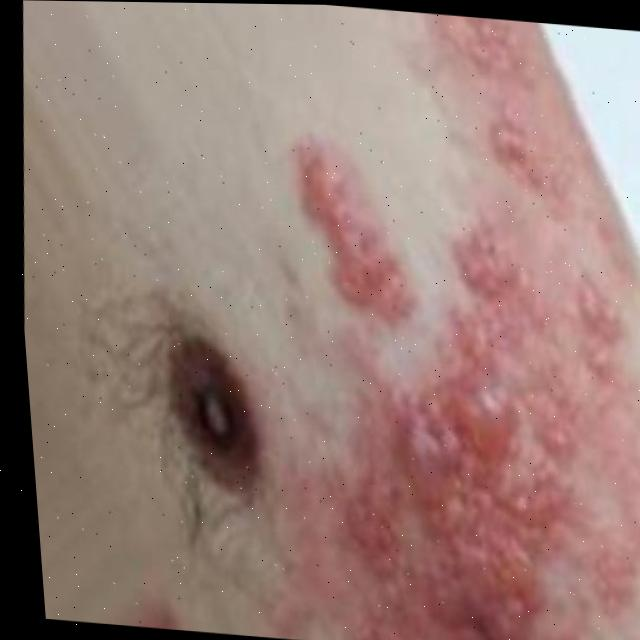Shingles: (254, 4, 640, 640)
